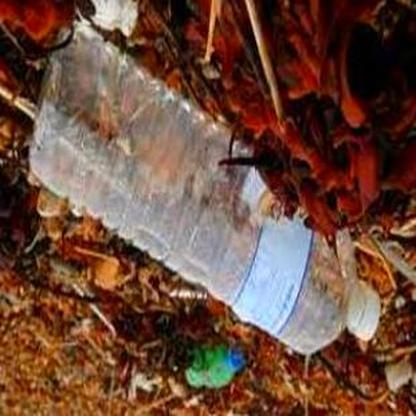plastic bottle: (31, 22, 381, 353), (183, 342, 249, 389)
